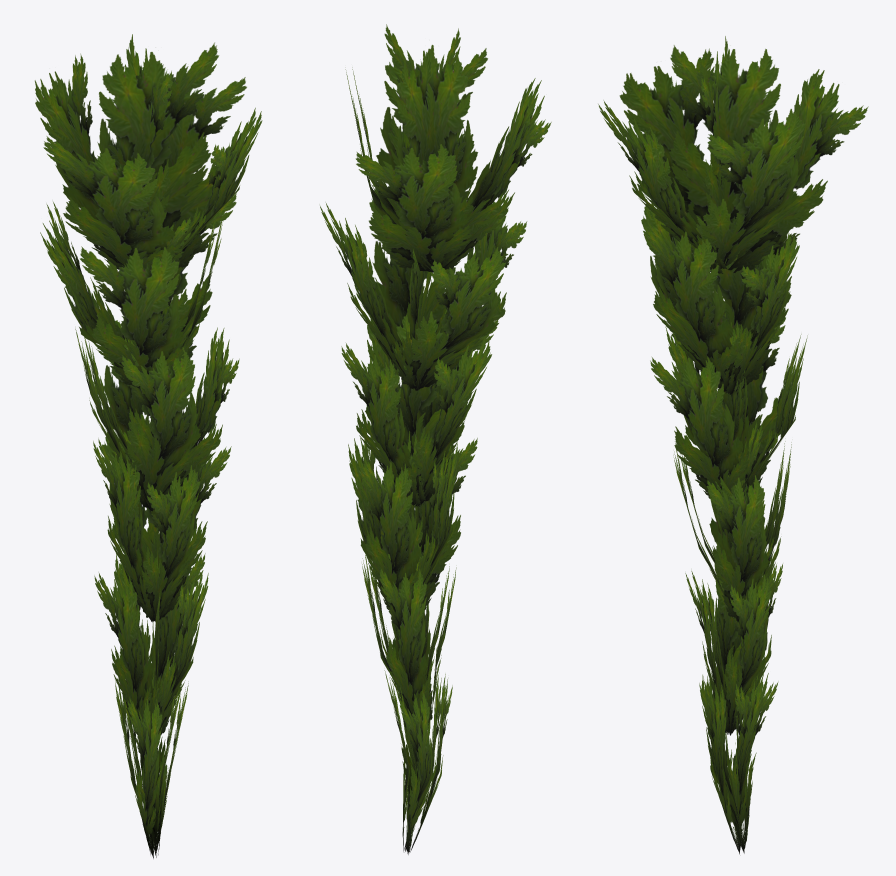
The model's file is SeaWeed04_LOD0_FattooCreater.glb.
3 views of the same model, side by side, from view 1: azimuth 30°, elevation 25°; view 2: azimuth 150°, elevation 25°; view 3: azimuth 270°, elevation 25° (orthographic). The views are drawn at different scales.
Visible parts, largest first — view 1: SeaWeed04_high; view 2: SeaWeed04_high; view 3: SeaWeed04_high.
Boxes of the visible parts, x1,y1,x2,y2 form: SeaWeed04_high: [35, 34, 262, 858]; SeaWeed04_high: [320, 24, 551, 854]; SeaWeed04_high: [598, 36, 868, 854].
Size of the model in its own units: 0.0979 by 0.3149 by 0.1055.
Materials: 1 (1 with a texture image).
